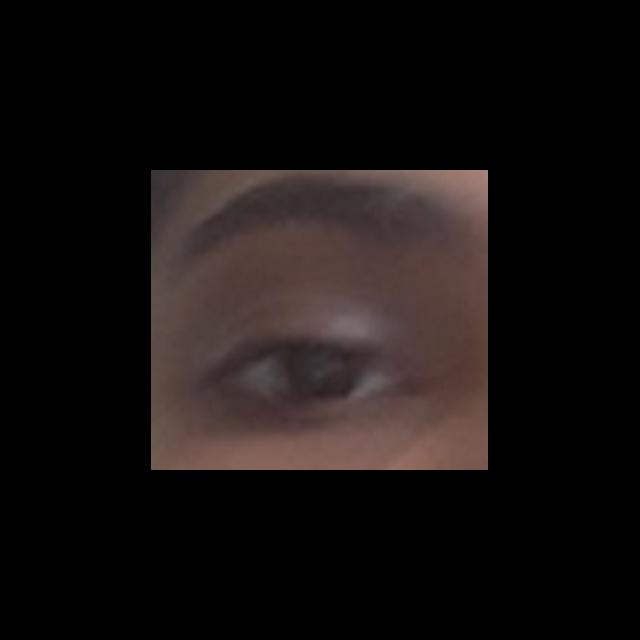eye: (232, 347, 388, 409)
iris: (287, 352, 362, 406)
